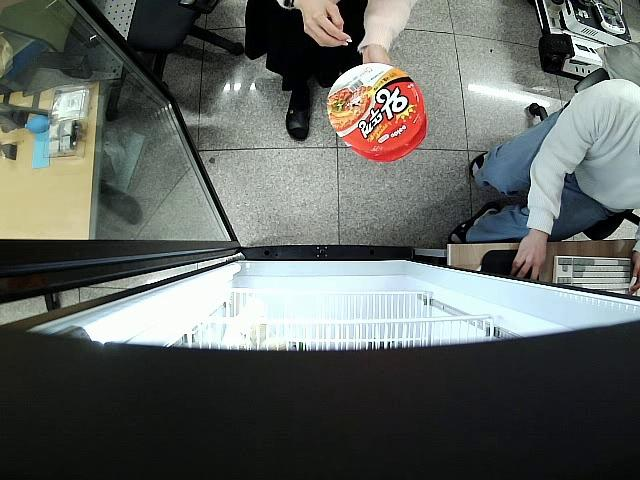00_hand: (287, 0, 352, 50), (514, 232, 549, 281)
10_wangTtukkeong: (328, 65, 425, 150)
